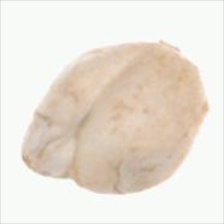L3: (18, 109, 82, 184)
L4: (20, 40, 208, 195)
